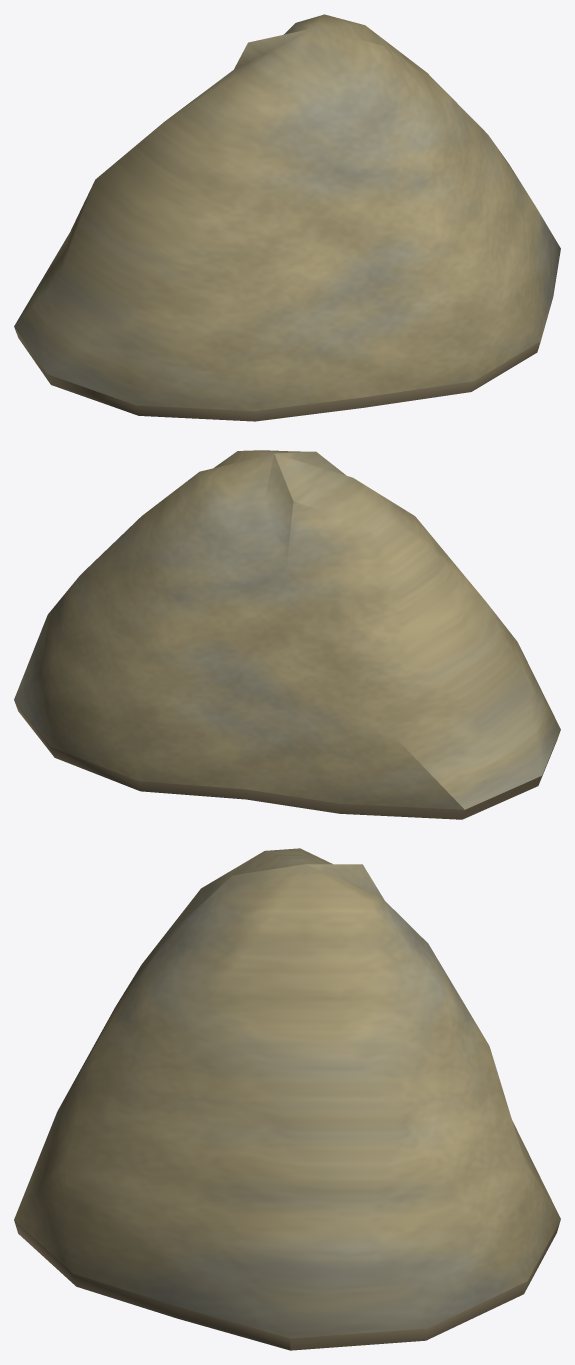
Rendered from clay_heap_medium.glb.
3 views of the same model, one above another, from view 1: azimuth 30°, elevation 25°; view 2: azimuth 150°, elevation 25°; view 3: azimuth 270°, elevation 25° (orthographic). The views are drawn at different scales.
Parts seen in each view (by area): view 1: CLAY_HEAP_MEDIUM; view 2: CLAY_HEAP_MEDIUM; view 3: CLAY_HEAP_MEDIUM.
Boxes of the visible parts, x1,y1,x2,y2 form: CLAY_HEAP_MEDIUM: (14,14,560,421); CLAY_HEAP_MEDIUM: (14,450,560,819); CLAY_HEAP_MEDIUM: (14,848,560,1350).
Bounding box in the file's own units: 1.13 × 0.605 × 0.8633.
Materials: 1 (1 with a texture image).
